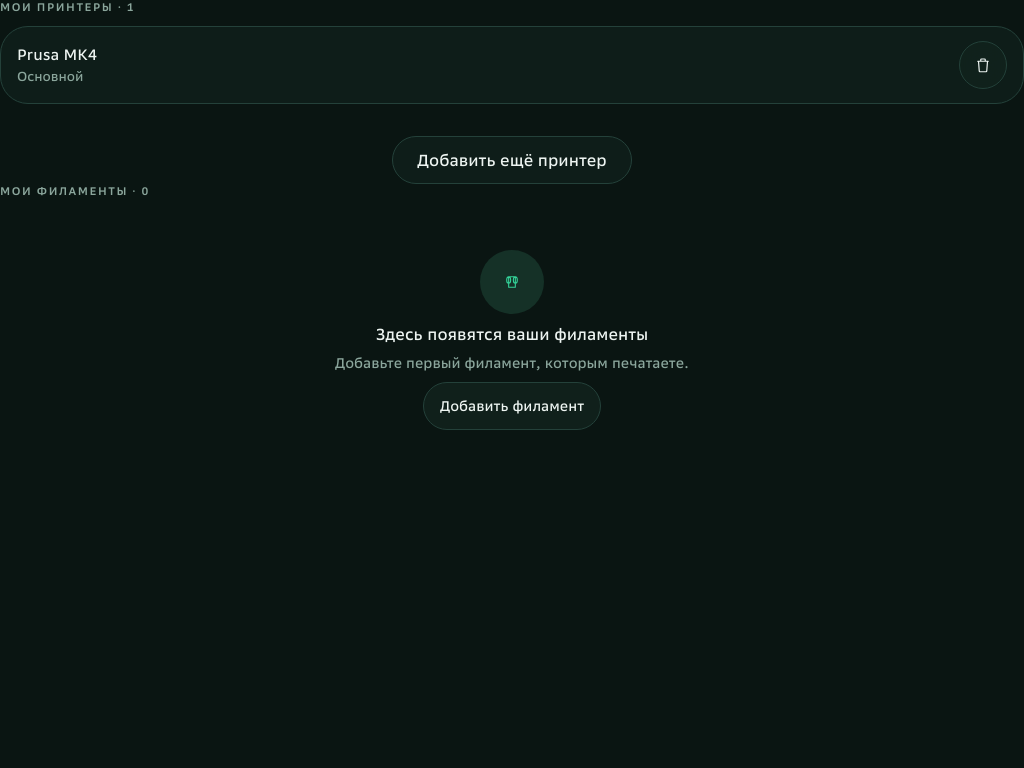
Test: MyCatalogsSection › ошибка сохранения принтера — toast, модалка остаётся открытой (MF-939 §4)
Click the text "Prusa MK4".
click(57, 54)  # box [17, 45, 97, 64]
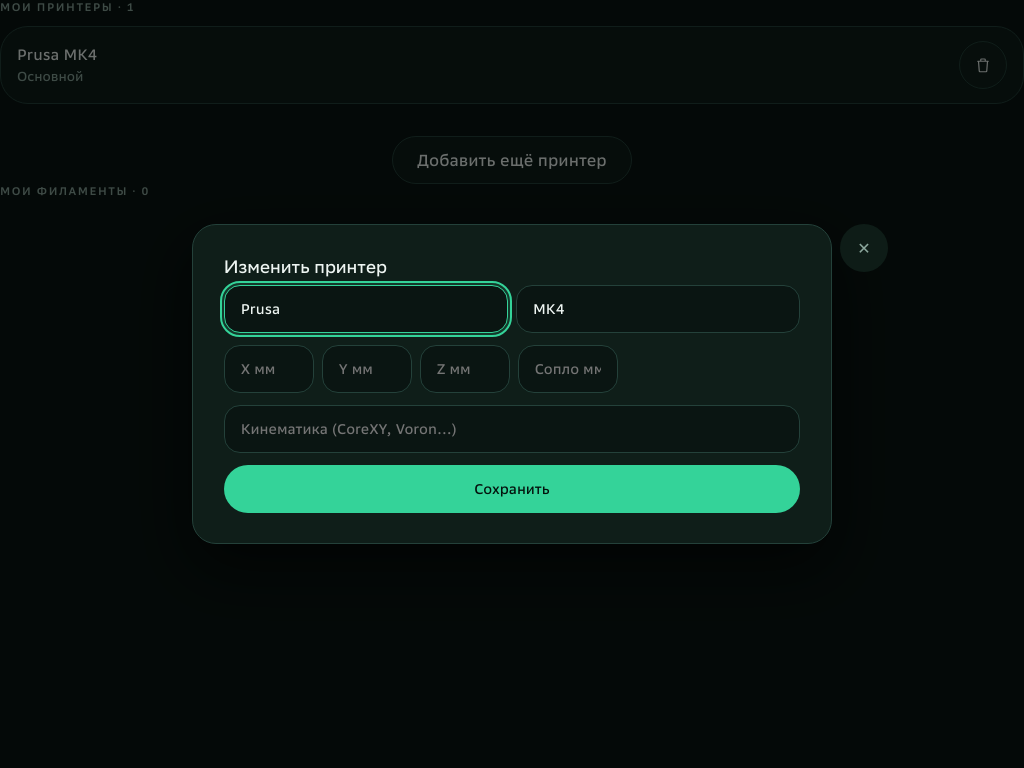
Expected: the text "Изменить принтер" is shown, [224, 256, 387, 276]
Click the button "Сохранить".
click(512, 488)  # box [224, 464, 800, 512]
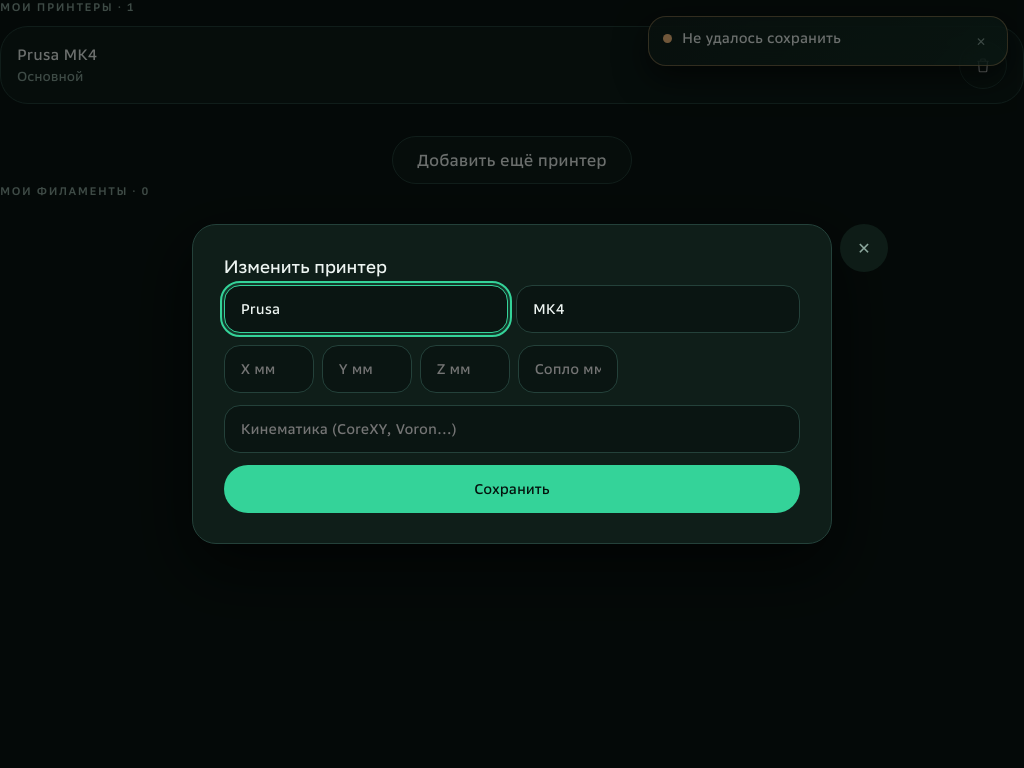
Expected: the text "Изменить принтер" is shown, [224, 256, 387, 276]
Expected: the text "Не удалось сохранить" is shown, [682, 29, 841, 47]
